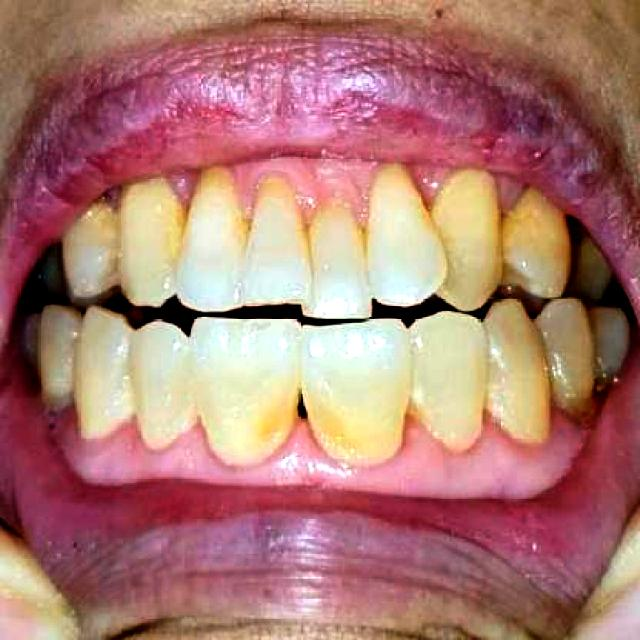Plaque: (309, 395, 353, 447), (253, 396, 288, 447), (568, 385, 608, 422)
